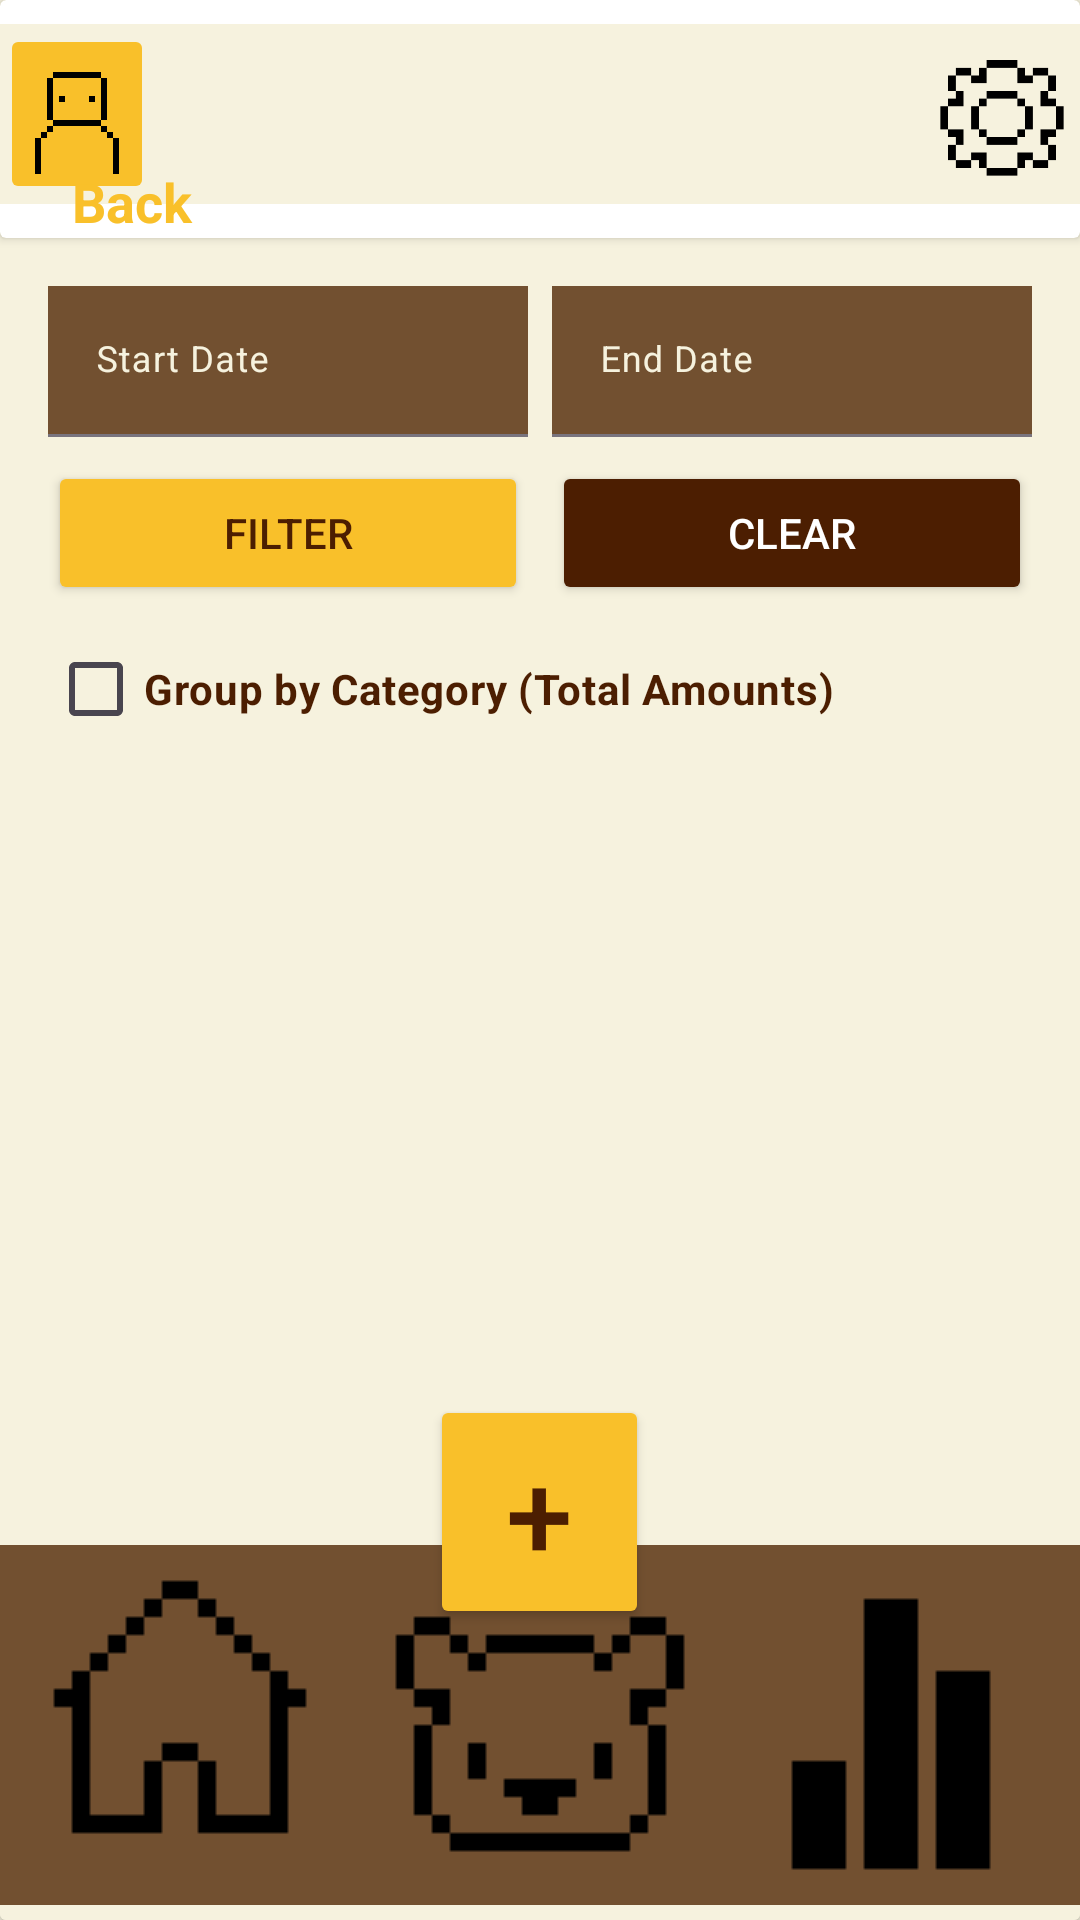

Where to tap for icons on this 1080×1920 app screen, as point (x, y):
analyticsicon: point (891, 1734)
bearicon: point (540, 1725)
cogicon: point (1002, 118)
houseicon: point (180, 1707)
profileicon: point (83, 123)
